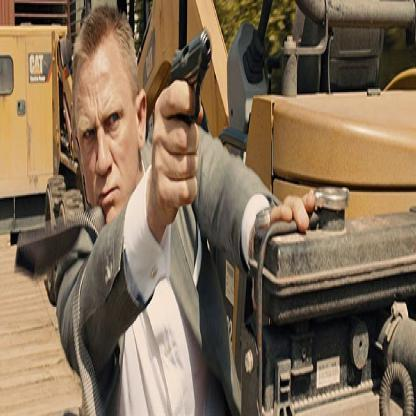Pistol: (158, 19, 224, 171)
